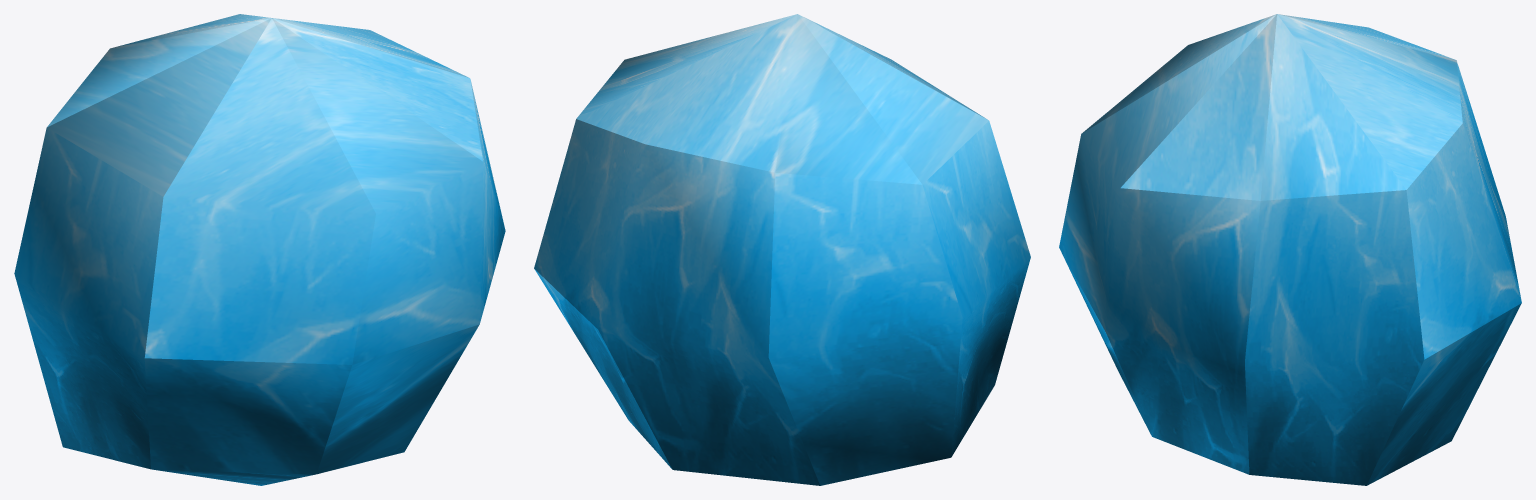
The model's file is FXMesh_Ice_B.FBX.
The picture shows the model from 3 angles, left to right: view 1: azimuth 30°, elevation 25°; view 2: azimuth 150°, elevation 25°; view 3: azimuth 270°, elevation 25°; orthographic projection. The views are drawn at different scales.
Parts seen in each view (by area): view 1: FXMesh_Ice_B; view 2: FXMesh_Ice_B; view 3: FXMesh_Ice_B.
Part boxes in pixels (x1,y1,x2,y2): FXMesh_Ice_B: (14, 14, 505, 485); FXMesh_Ice_B: (534, 14, 1030, 485); FXMesh_Ice_B: (1059, 14, 1521, 485).
Bounding box in the file's own units: 21.61 × 20.7 × 22.47.
